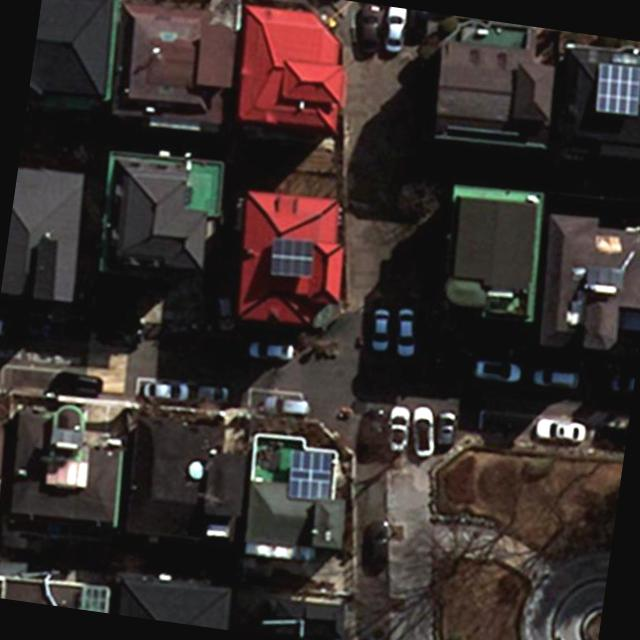solar: (284, 449, 338, 506), (591, 63, 640, 119), (267, 237, 318, 280)
